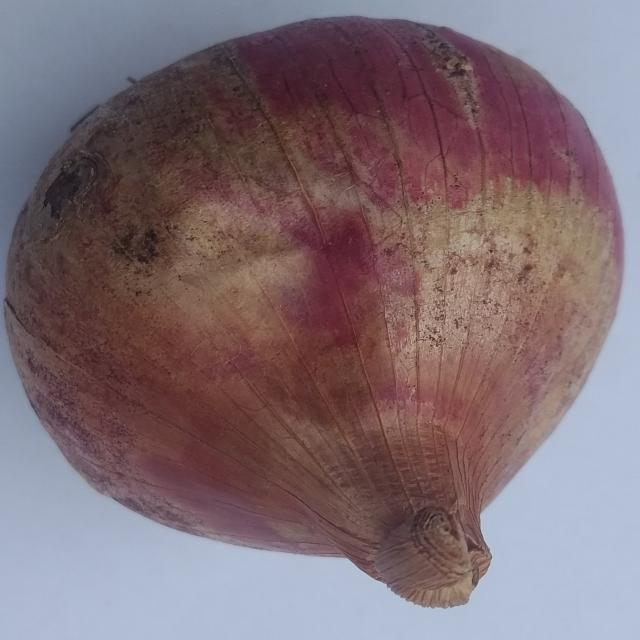onion: (2, 14, 628, 611)
